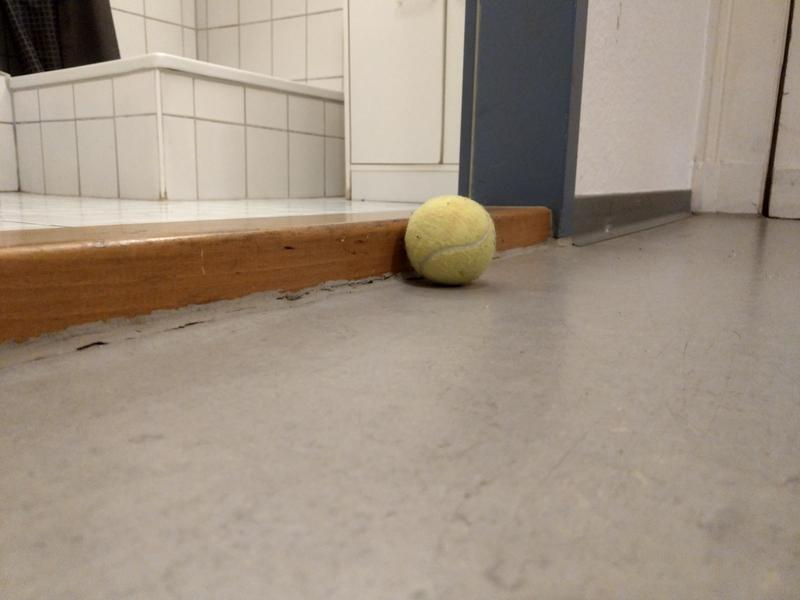Tennisball: (401, 193, 500, 289)
